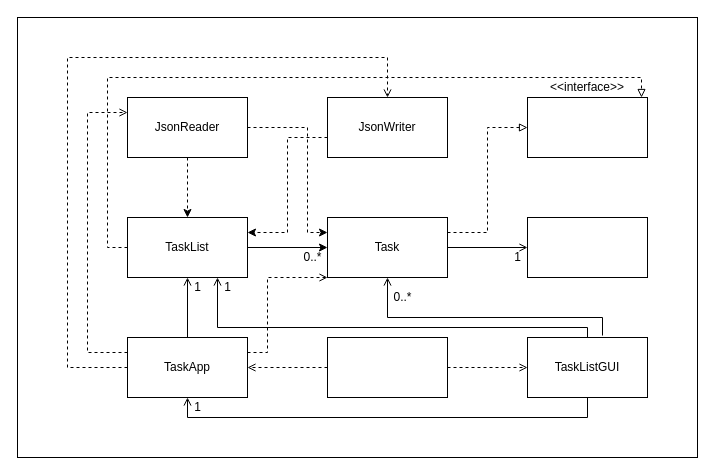
Image size: 715x475. Some labels were removed from this diagram. The shapes that lost their labels are listed below. From the top down, each one's centre as x and y in pixels, then its label:
At [587,127]: "Writeable".
At [587,247]: "TaskStatus".
At [387,367]: "Main".
